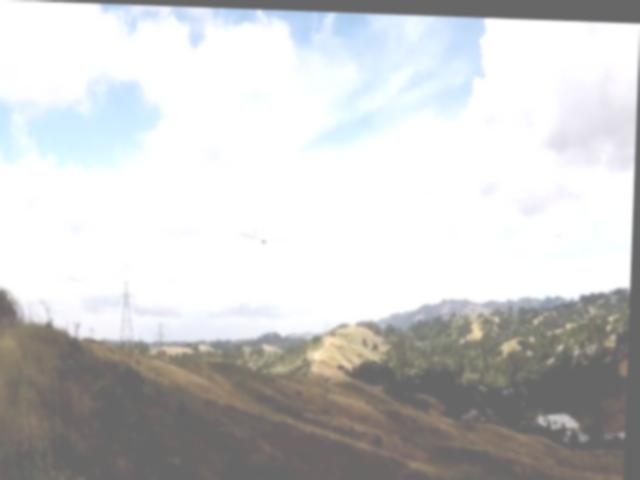iha: (235, 215, 289, 248)
